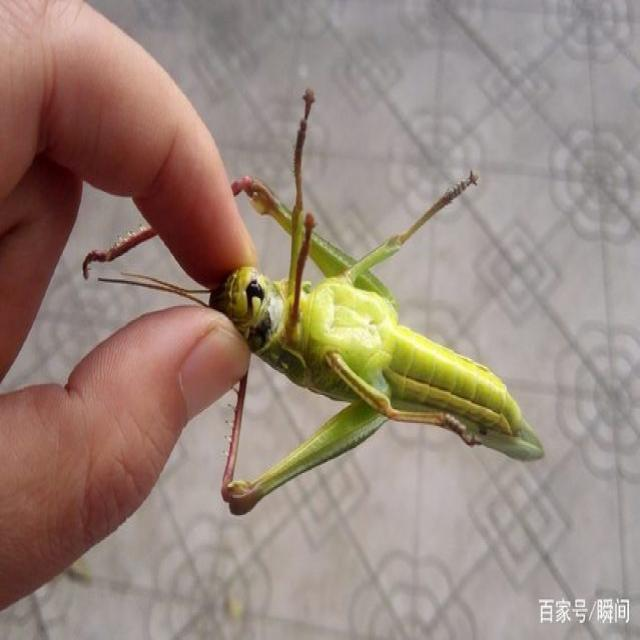ZhaMeng: (230, 162, 554, 504)
